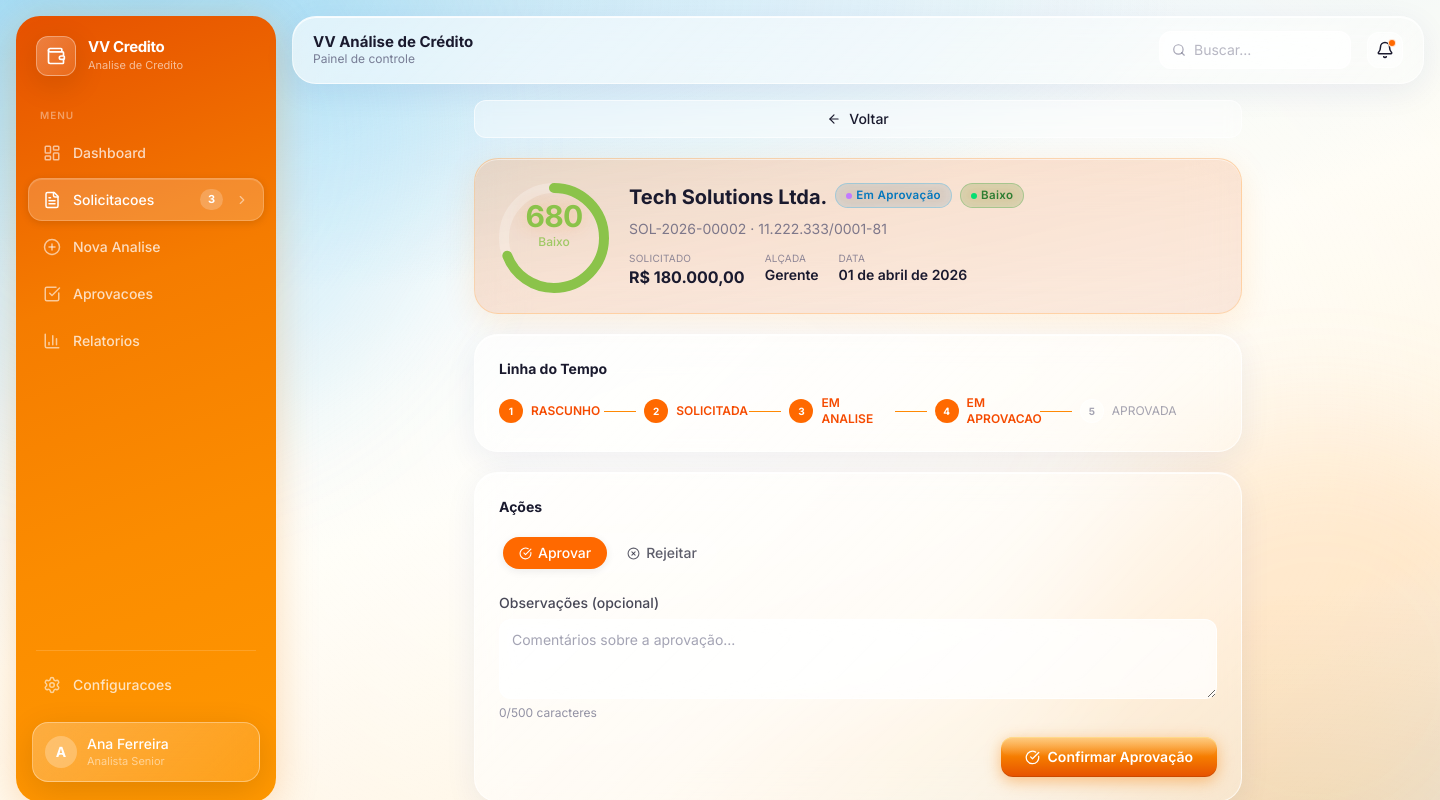
Test: Solicitação Detail — Approval & Rejection Flow › ApprovalForm for an EM_APROVACAO request (req-002) › shows validation error for motivo shorter than 10 chars
Click the button "Rejeitar". click: (662,553)
box: left=611, top=537, right=713, bottom=569
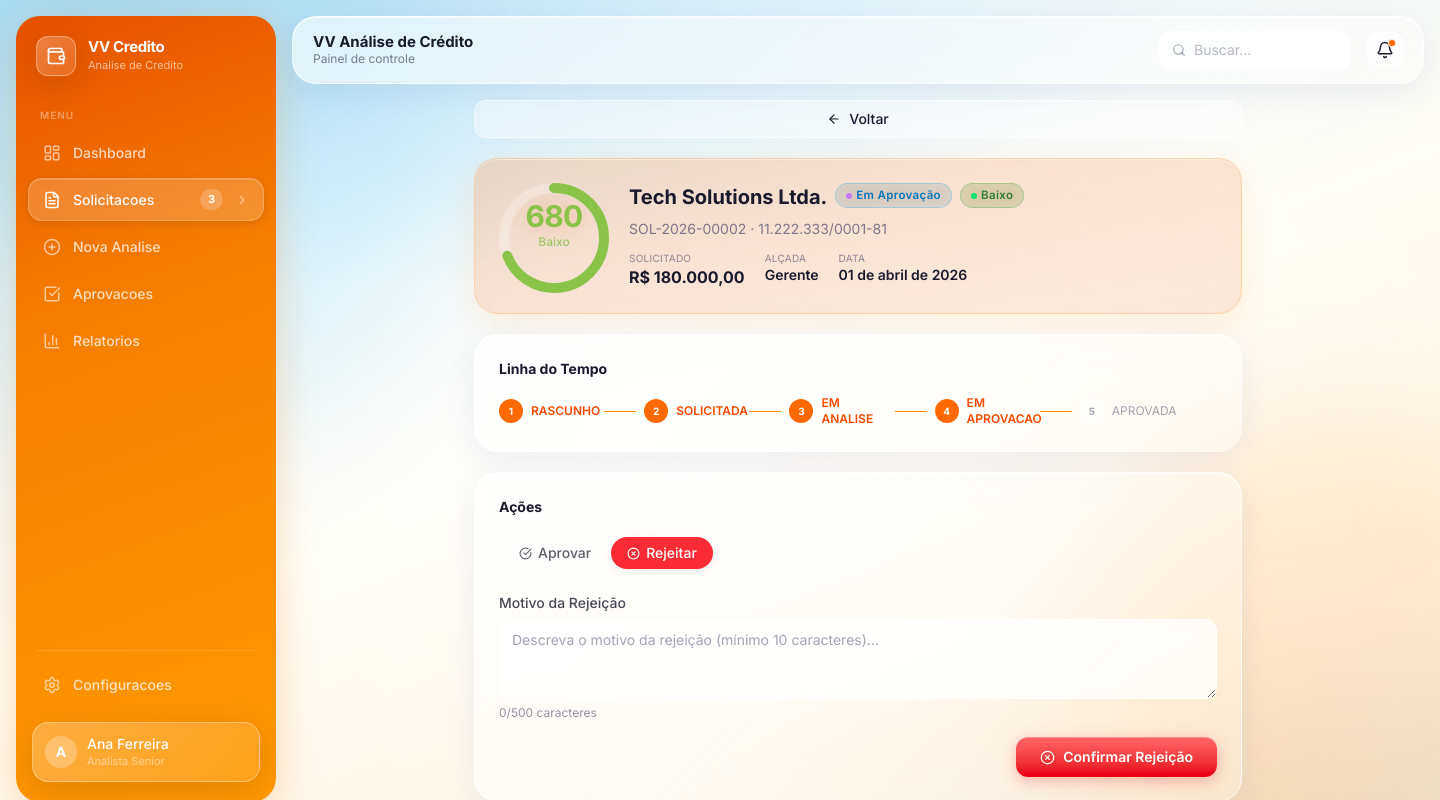
Type "Curto" into the text box labelled "Motivo da Rejeição". click: (858,659)
box: left=499, top=619, right=1217, bottom=699
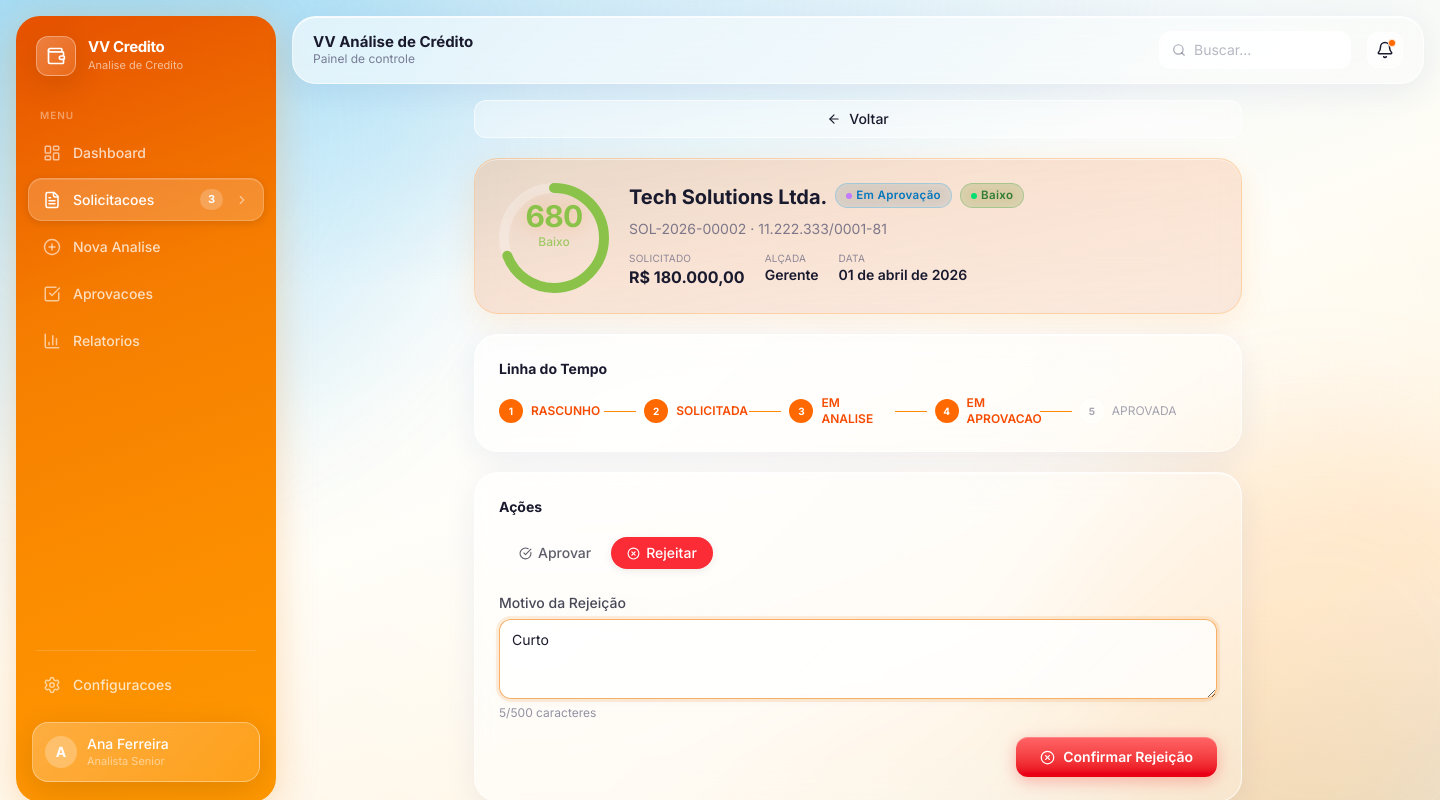
Click the button "Confirmar Rejeição". click: (1117,757)
box: left=1016, top=737, right=1217, bottom=777
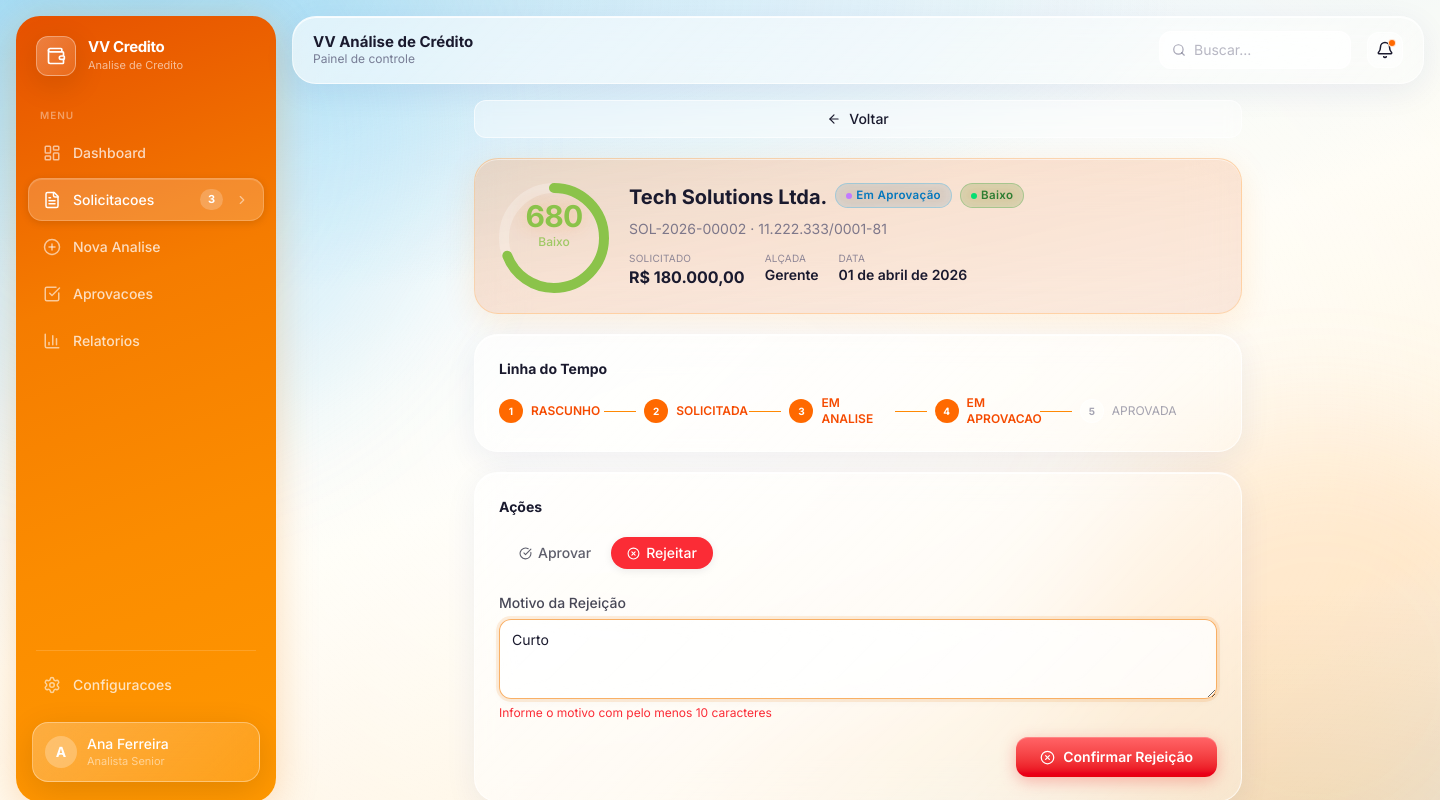
Result: the text "10 caracteres" is shown at left=499, top=705, right=772, bottom=720
